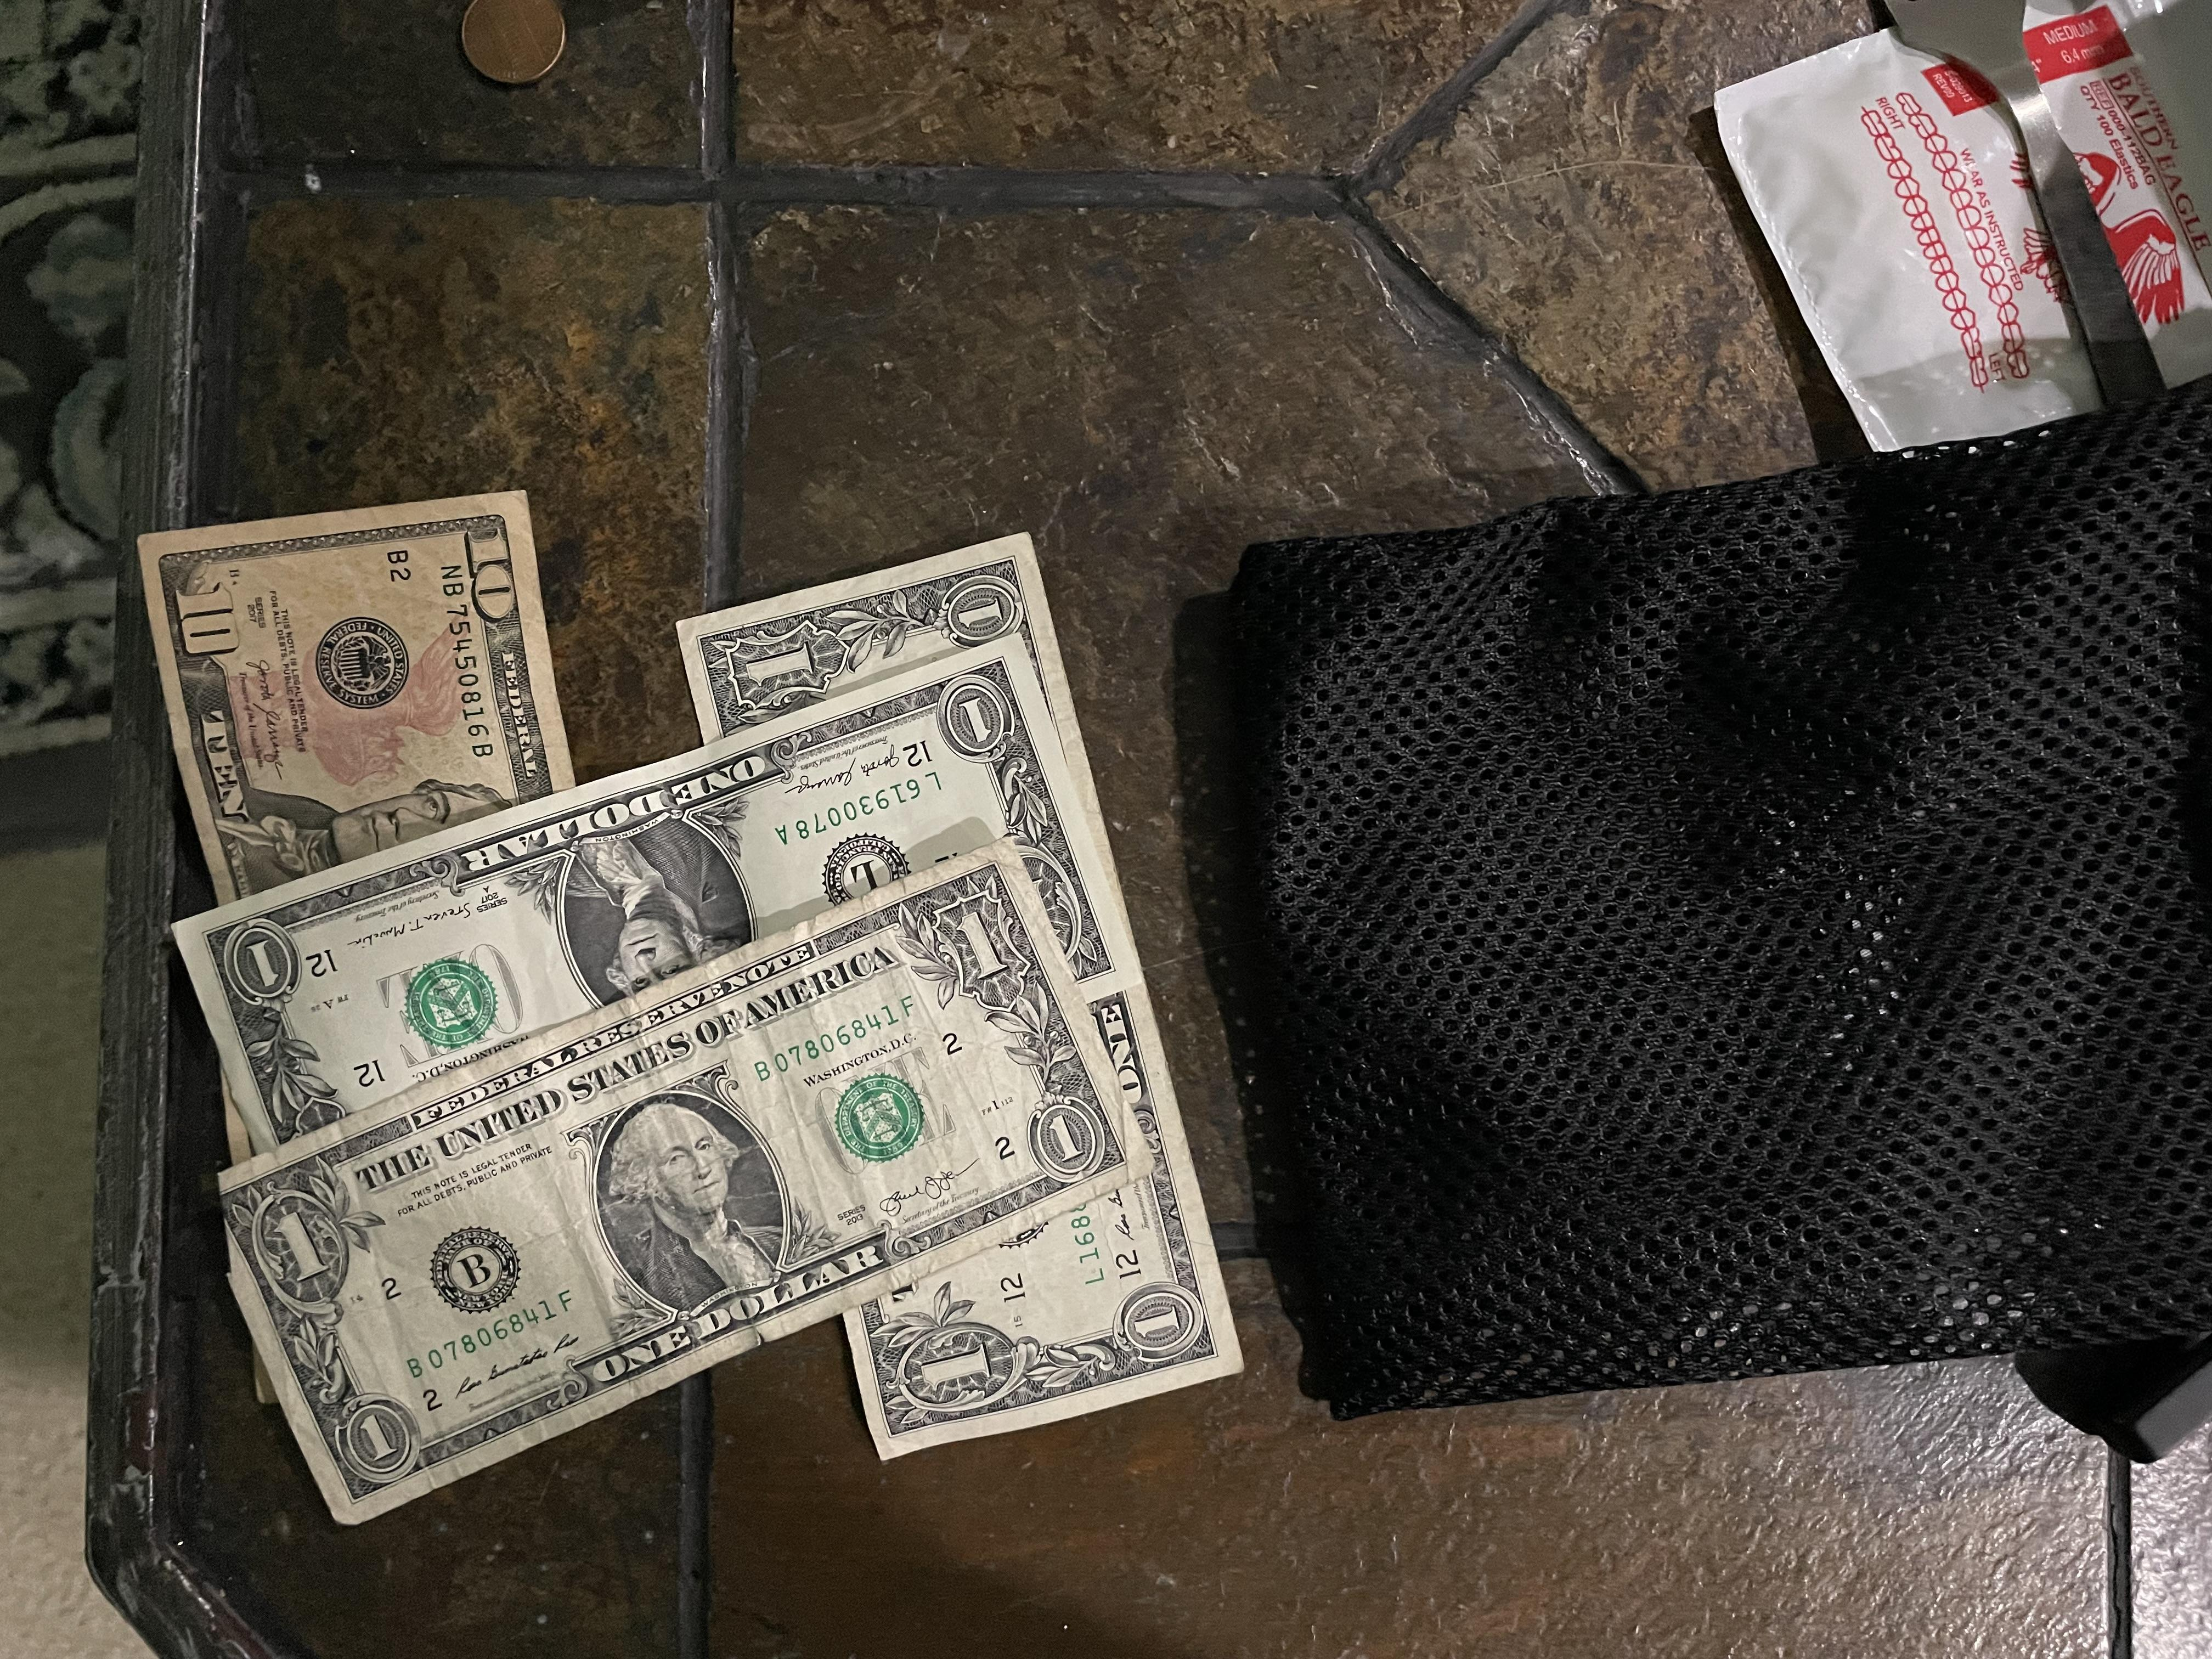OneBill: (207, 854, 1160, 1581), (697, 481, 1254, 1528), (188, 701, 1153, 1175)
Penny: (444, 5, 603, 85)
TenBill: (132, 477, 566, 861)
